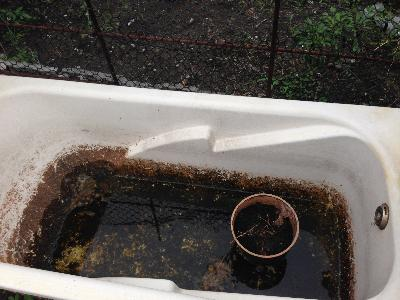bucket: (228, 192, 305, 264)
tub: (1, 73, 400, 299)
